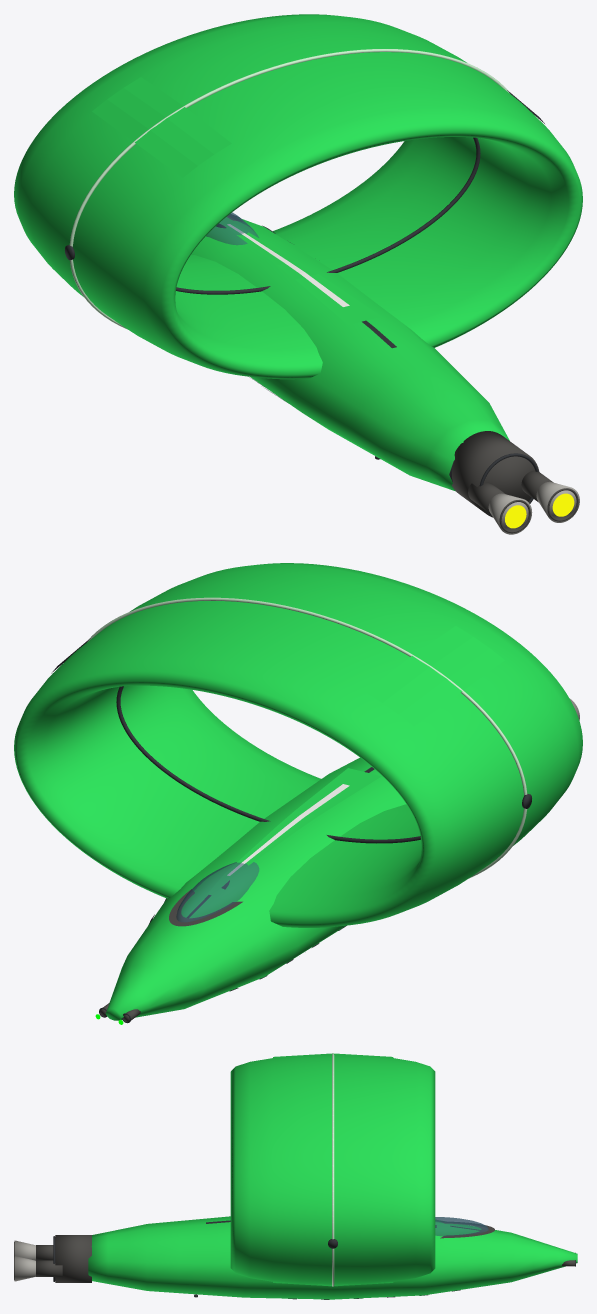
The model's file is Ship_Hooper_219385.glb.
3 views of the same model, one above another, from view 1: azimuth 30°, elevation 25°; view 2: azimuth 150°, elevation 25°; view 3: azimuth 270°, elevation 25° (orthographic). The views are drawn at different scales.
Parts seen in each view (by area): view 1: Hoop_MainStructuralRing_YAxisHole_ElongatedY_LowerMidpointAt, Fuselage_MainCenteredHull_CenterOfMassAtOrigin, PaintHoopCleanOrbital_02_ShortTrimBand, EngineBlock_AftHullIntegratedMountPlate, PaintFuselage_DorsalPrimaryBlade, Hoop_OuterArmorRaisedRim, Hoop_InnerLip_DarkInsetRing, CanopyGlass_LowForwardPodDome, EngineBell_Right_AftHullBurnishedNozzle, EngineBell_Left_AftHullBurnishedNozzle, EngineEmitter; view 2: Hoop_MainStructuralRing_YAxisHole_ElongatedY_LowerMidpointAt, Fuselage_MainCenteredHull_CenterOfMassAtOrigin, PaintHoopCleanOrbital_02_ShortTrimBand, CanopyGlass_LowForwardPodDome, PaintFuselage_DorsalPrimaryBlade, Hoop_OuterArmorRaisedRim, Hoop_InnerLip_DarkInsetRing, CanopyFrame_LowInsetOvalRim, PaintFuselage_DorsalSecondaryPinstripe; view 3: Hoop_MainStructuralRing_YAxisHole_ElongatedY_LowerMidpointAt, Fuselage_MainCenteredHull_CenterOfMassAtOrigin, EngineBlock_AftHullIntegratedMountPlate, CanopyGlass_LowForwardPodDome, Hoop_OuterArmorRaisedRim, EngineBell_Right_AftHullBurnishedNozzle, EngineThroat_Right_AftHullDarkSocket, EngineBell_Left_AftHullBurnishedNozzle, CanopyFrame_LowInsetOvalRim.
Part boxes in pixels (x1,y1,x2,y2): Hoop_MainStructuralRing_YAxisHole_ElongatedY_LowerMidpointAt: [14, 14, 582, 379]; Fuselage_MainCenteredHull_CenterOfMassAtOrigin: [191, 217, 509, 491]; PaintHoopCleanOrbital_02_ShortTrimBand: [92, 77, 231, 177]; EngineBlock_AftHullIntegratedMountPlate: [452, 431, 539, 517]; PaintFuselage_DorsalPrimaryBlade: [219, 220, 381, 324]; Hoop_OuterArmorRaisedRim: [69, 49, 509, 329]; Hoop_InnerLip_DarkInsetRing: [176, 137, 480, 294]; CanopyGlass_LowForwardPodDome: [206, 212, 258, 245]; EngineBell_Right_AftHullBurnishedNozzle: [536, 481, 579, 522]; EngineBell_Left_AftHullBurnishedNozzle: [488, 493, 532, 534]; EngineEmitter: [505, 493, 574, 528]; Hoop_MainStructuralRing_YAxisHole_ElongatedY_LowerMidpointAt: [14, 563, 582, 927]; Fuselage_MainCenteredHull_CenterOfMassAtOrigin: [105, 758, 406, 1020]; PaintHoopCleanOrbital_02_ShortTrimBand: [365, 626, 504, 726]; CanopyGlass_LowForwardPodDome: [176, 862, 259, 922]; PaintFuselage_DorsalPrimaryBlade: [207, 768, 381, 895]; Hoop_OuterArmorRaisedRim: [87, 597, 527, 878]; Hoop_InnerLip_DarkInsetRing: [116, 686, 420, 843]; CanopyFrame_LowInsetOvalRim: [169, 889, 242, 926]; PaintFuselage_DorsalSecondaryPinstripe: [227, 784, 349, 875]; Hoop_MainStructuralRing_YAxisHole_ElongatedY_LowerMidpointAt: [230, 1055, 435, 1284]; Fuselage_MainCenteredHull_CenterOfMassAtOrigin: [88, 1216, 577, 1299]; EngineBlock_AftHullIntegratedMountPlate: [55, 1235, 91, 1282]; CanopyGlass_LowForwardPodDome: [435, 1217, 488, 1236]; Hoop_OuterArmorRaisedRim: [332, 1053, 334, 1286]; EngineBell_Right_AftHullBurnishedNozzle: [14, 1256, 35, 1281]; EngineThroat_Right_AftHullDarkSocket: [36, 1260, 62, 1276]; EngineBell_Left_AftHullBurnishedNozzle: [14, 1240, 35, 1260]; CanopyFrame_LowInsetOvalRim: [440, 1222, 494, 1238].
Bounding box in the file's own units: 4.02 × 2.69 × 6.51.
